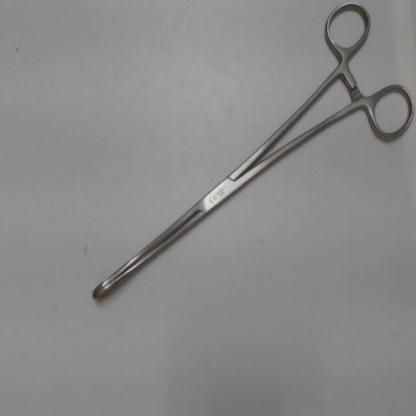Sponge Forceps: (82, 2, 414, 311)
